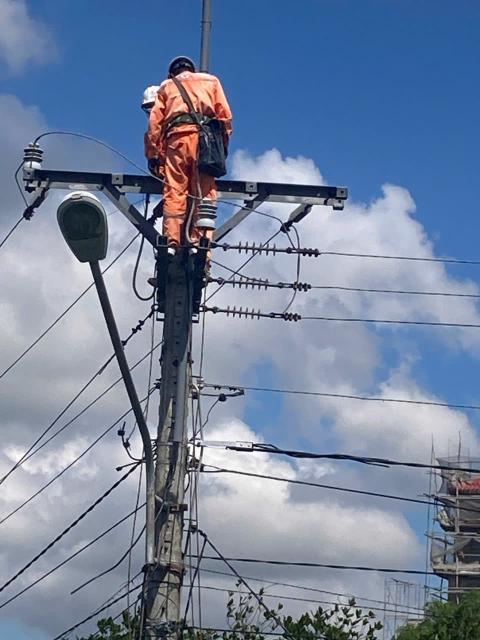gloves: (147, 157, 165, 177)
harness: (155, 108, 220, 129)
helmet: (163, 48, 203, 77), (139, 81, 164, 109)
